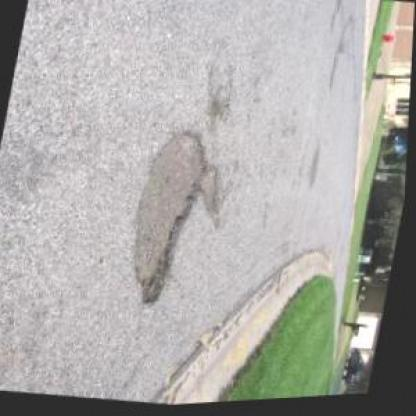pothole: (122, 125, 218, 313), (197, 169, 230, 226), (203, 101, 224, 128)
